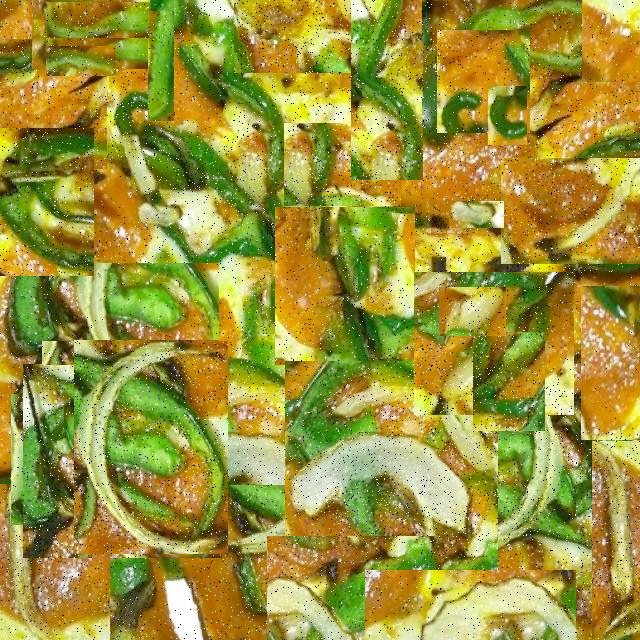Green Pepper: (23, 365, 222, 558), (373, 330, 503, 557), (267, 536, 438, 640), (0, 129, 94, 276), (352, 0, 424, 180), (64, 420, 183, 512), (11, 395, 93, 525), (473, 332, 545, 431), (170, 25, 230, 141), (415, 128, 501, 192), (42, 342, 104, 421), (432, 0, 533, 37), (47, 2, 149, 38), (91, 164, 144, 226), (146, 548, 187, 619), (148, 11, 174, 121), (411, 42, 460, 98), (488, 86, 527, 145), (46, 46, 116, 76)
Onions: (74, 341, 228, 554), (306, 427, 490, 543), (365, 570, 576, 640), (592, 441, 640, 640), (439, 287, 506, 336), (449, 202, 504, 230)
Pepperoni: (0, 264, 219, 486), (285, 361, 498, 588), (110, 485, 306, 640), (507, 428, 640, 639), (414, 272, 574, 415), (275, 207, 415, 365), (501, 158, 640, 264), (105, 100, 246, 204), (0, 39, 107, 170), (234, 0, 390, 73), (451, 0, 611, 67), (284, 123, 401, 206), (437, 30, 530, 133), (581, 286, 640, 440), (32, 0, 151, 69), (582, 0, 640, 82)
Pizza: (0, 0, 640, 640)
